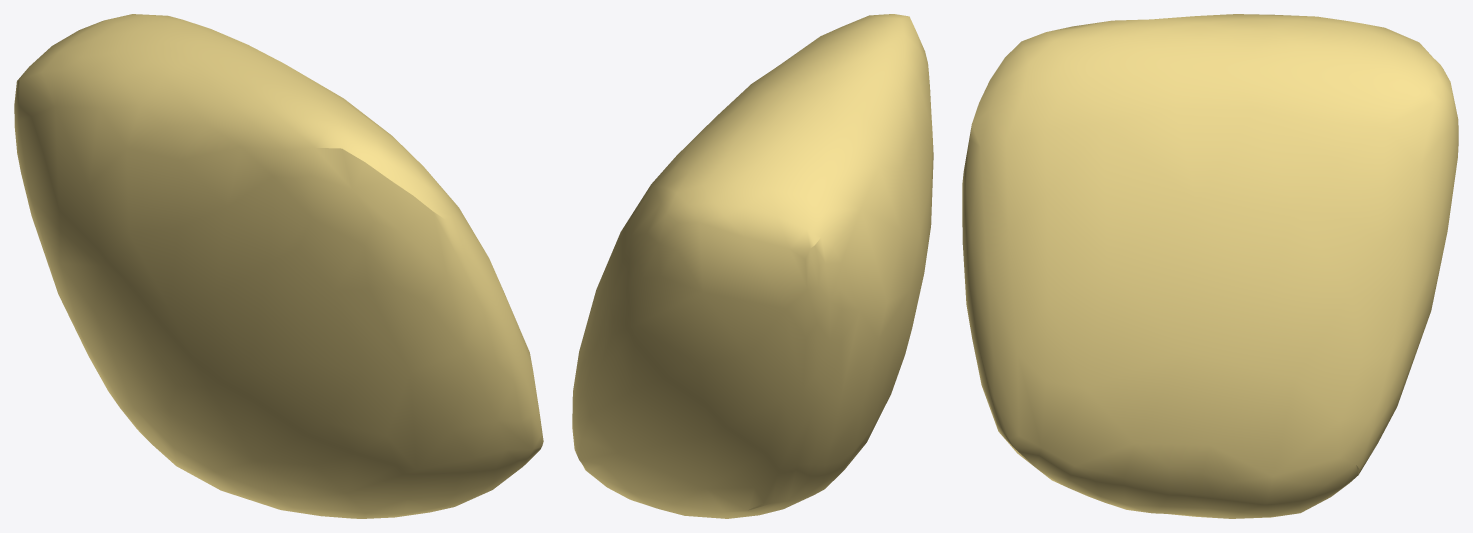
Rendered from fma62314-l_mm2960.glb.
3 views of the same model, side by side, from view 1: azimuth 30°, elevation 25°; view 2: azimuth 150°, elevation 25°; view 3: azimuth 270°, elevation 25° (orthographic). The views are drawn at different scales.
Parts seen in each view (by area): view 1: FMA62314-L_MM2960; view 2: FMA62314-L_MM2960; view 3: FMA62314-L_MM2960.
Part boxes in pixels (x1,y1,x2,y2): FMA62314-L_MM2960: (14, 14, 543, 518); FMA62314-L_MM2960: (572, 14, 933, 518); FMA62314-L_MM2960: (962, 14, 1458, 518).
Size of the model in its own units: 0.00134 by 0.00176 by 0.00183.
